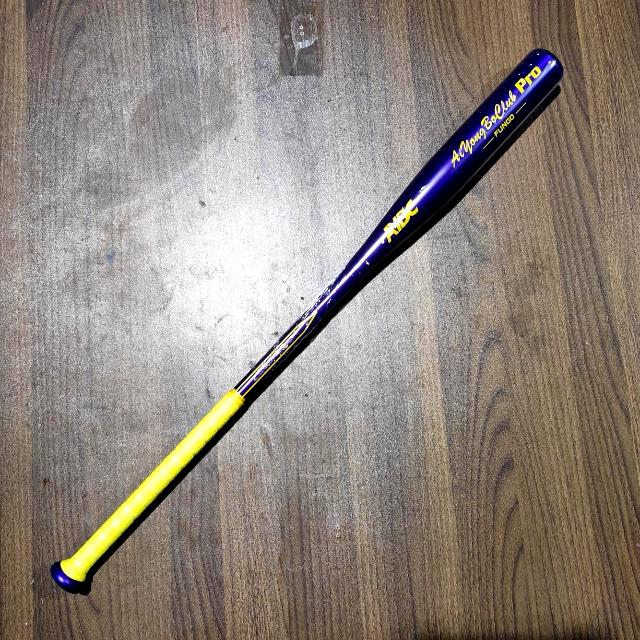baseball bat: (38, 15, 606, 607)
